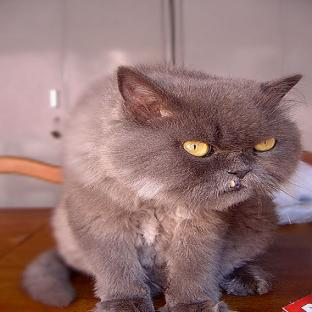Animal: (23, 64, 302, 311)
